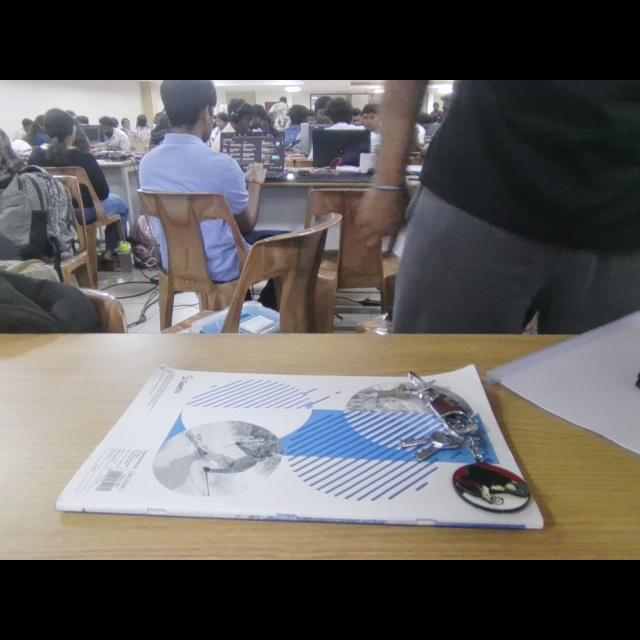keys: (400, 372, 530, 512)
